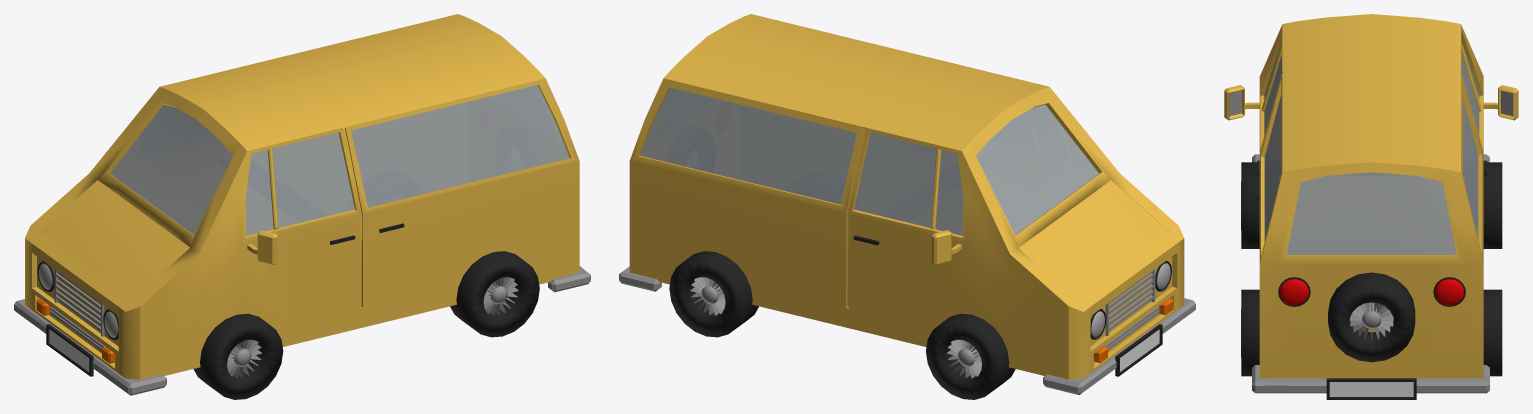
Rendered from Van.fbx.
The picture shows the model from 3 angles, left to right: view 1: azimuth 30°, elevation 25°; view 2: azimuth 150°, elevation 25°; view 3: azimuth 270°, elevation 25°; orthographic projection.
Parts seen in each view (by area): view 1: Van1, vanbonnet; view 2: Van1, vanbonnet; view 3: Van1.
Part boxes in pixels (x1,y1,x2,y2): Van1: [14, 14, 590, 399]; vanbonnet: [39, 180, 189, 299]; Van1: [619, 14, 1195, 399]; vanbonnet: [1019, 180, 1169, 299]; Van1: [1224, 14, 1518, 399].
Bounding box in the file's own units: 499 × 237 × 262.
